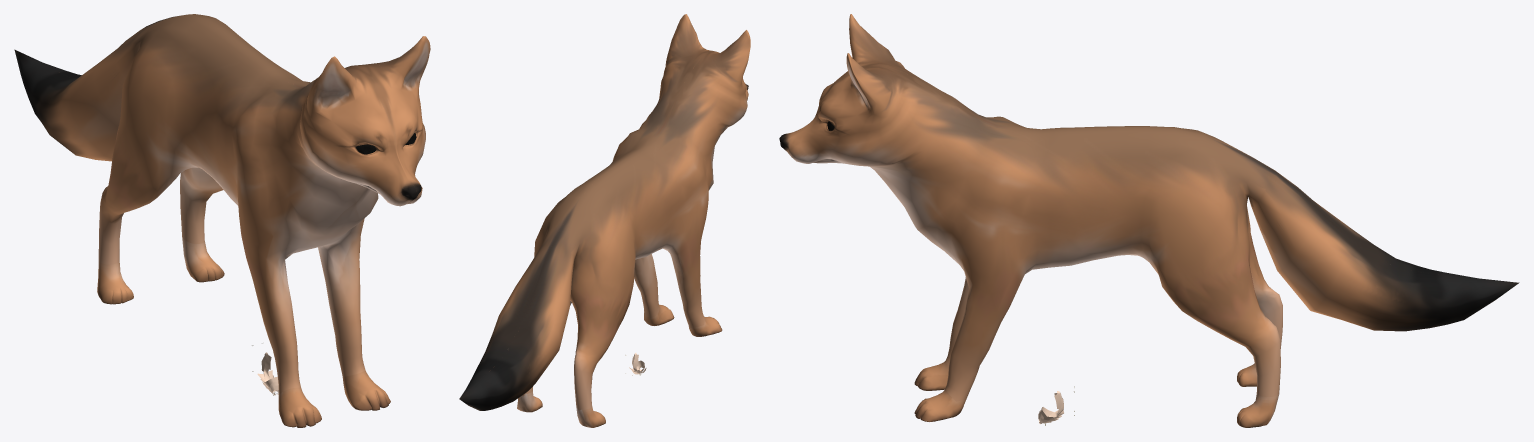
File: foxy.obj
3 views of the same model, side by side, from view 1: azimuth 30°, elevation 25°; view 2: azimuth 150°, elevation 25°; view 3: azimuth 270°, elevation 25° (orthographic). The views are drawn at different scales.
Visible parts, largest first — view 1: Fox_Body, Wolf_obj_fur_Cube.001; view 2: Fox_Body; view 3: Fox_Body.
Boxes of the visible parts, <box> form: Fox_Body: <box>14,14,430,427</box>; Wolf_obj_fur_Cube.001: <box>257,352,278,395</box>; Fox_Body: <box>459,14,750,427</box>; Fox_Body: <box>779,14,1519,427</box>.
Size of the model in its own units: 1.96 by 6.5 by 11.12.
